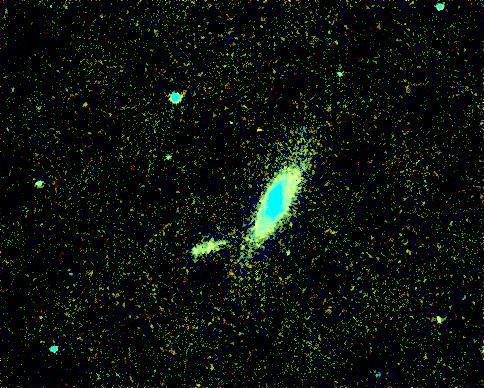star: (326, 60, 356, 90)
